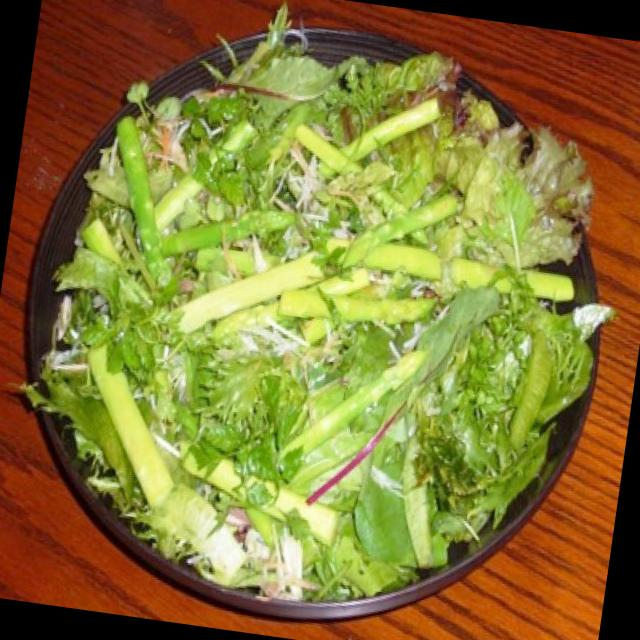Green Salad: (30, 19, 622, 617)
